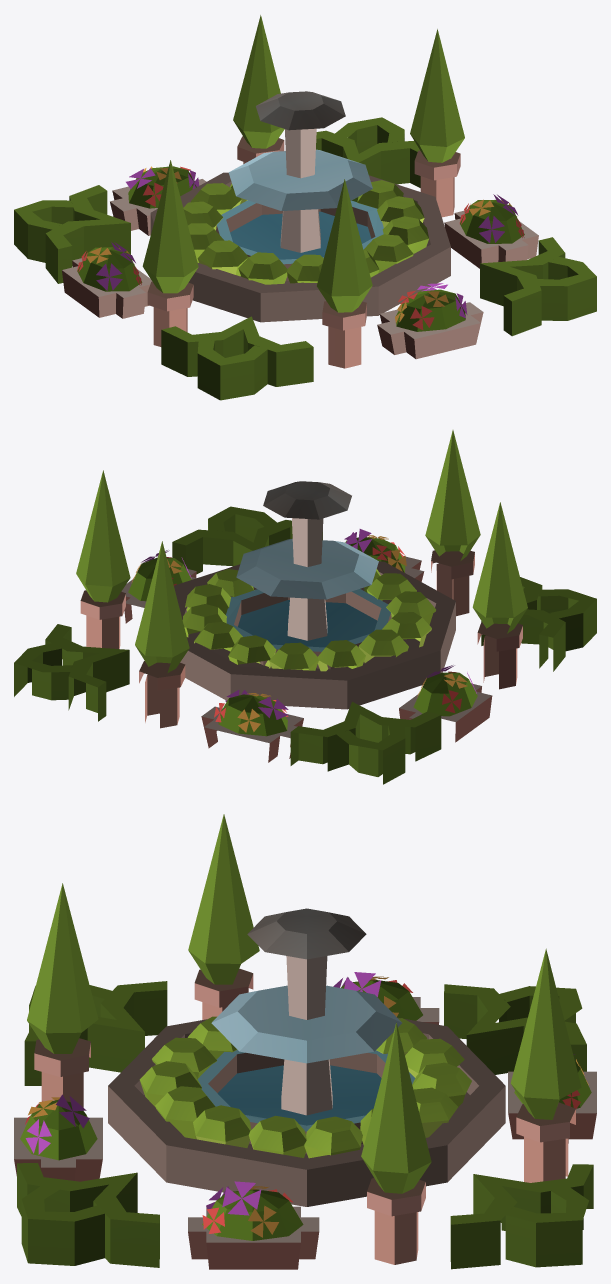
File: city-decor15.fbx
The picture shows the model from 3 angles, top to bottom: view 1: azimuth 30°, elevation 25°; view 2: azimuth 150°, elevation 25°; view 3: azimuth 270°, elevation 25°; orthographic projection. The views are drawn at different scales.
Parts seen in each view (by area): view 1: city-decor15; view 2: city-decor15; view 3: city-decor15.
Part boxes in pixels (x1,y1,x2,y2): city-decor15: (14,15,596,400); city-decor15: (14,430,596,784); city-decor15: (14,814,596,1269).
Bounding box in the file's own units: 3.02 × 1.33 × 3.03.
Materials: 1 (1 with a texture image).
